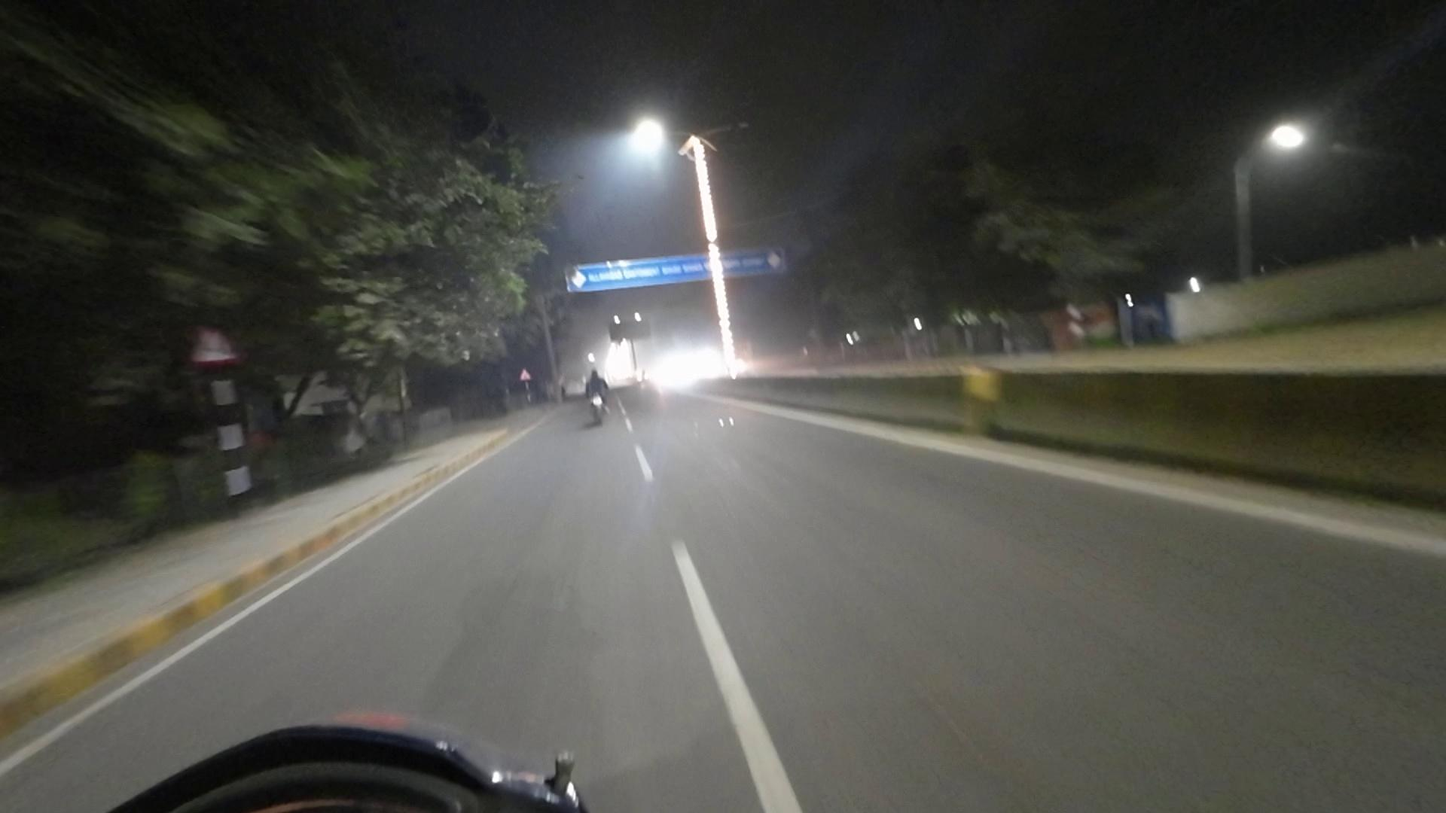streetlight: (705, 118, 751, 137)
